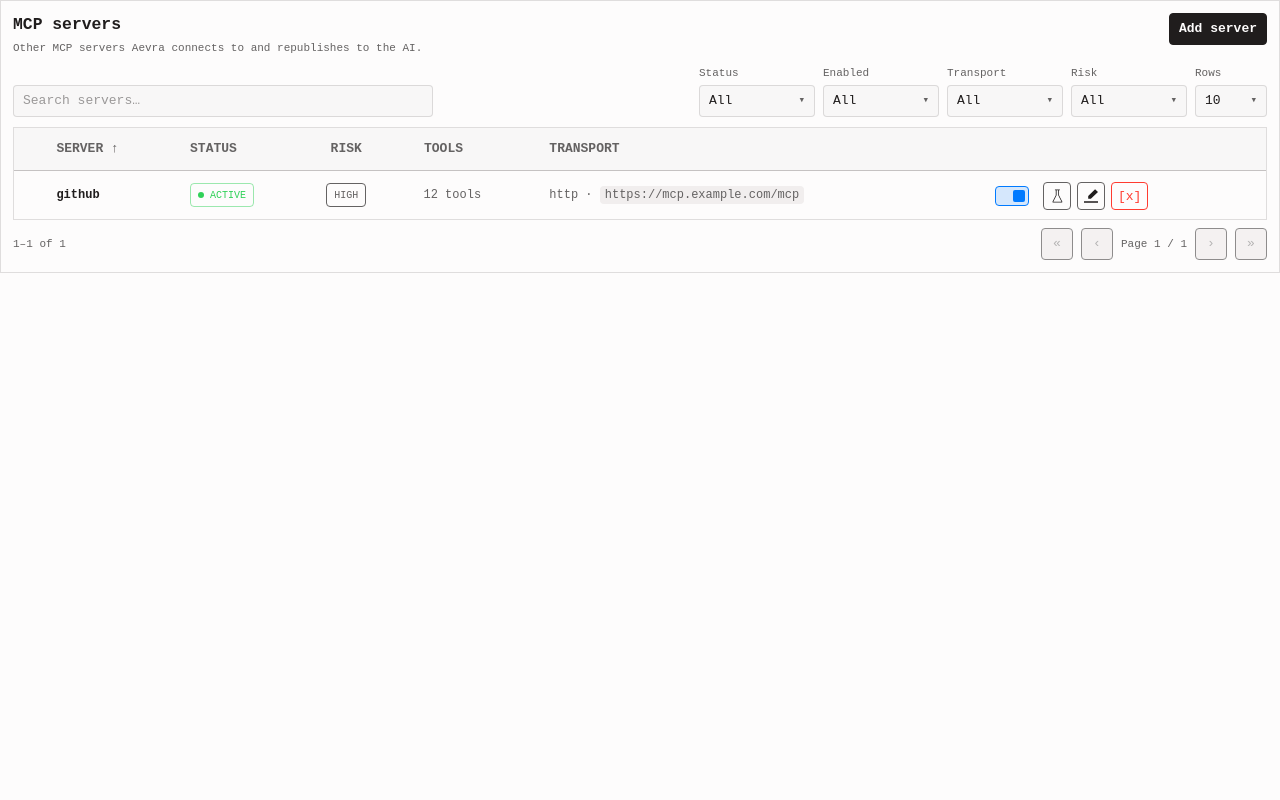
Test: McpUpstreamsSettings auto refresh › skips tick while edit modal open
Click the button named "edit github". click: x=1091, y=196
box: top-left (1077, 182), bottom-right (1105, 210)
Wait 30000 ms
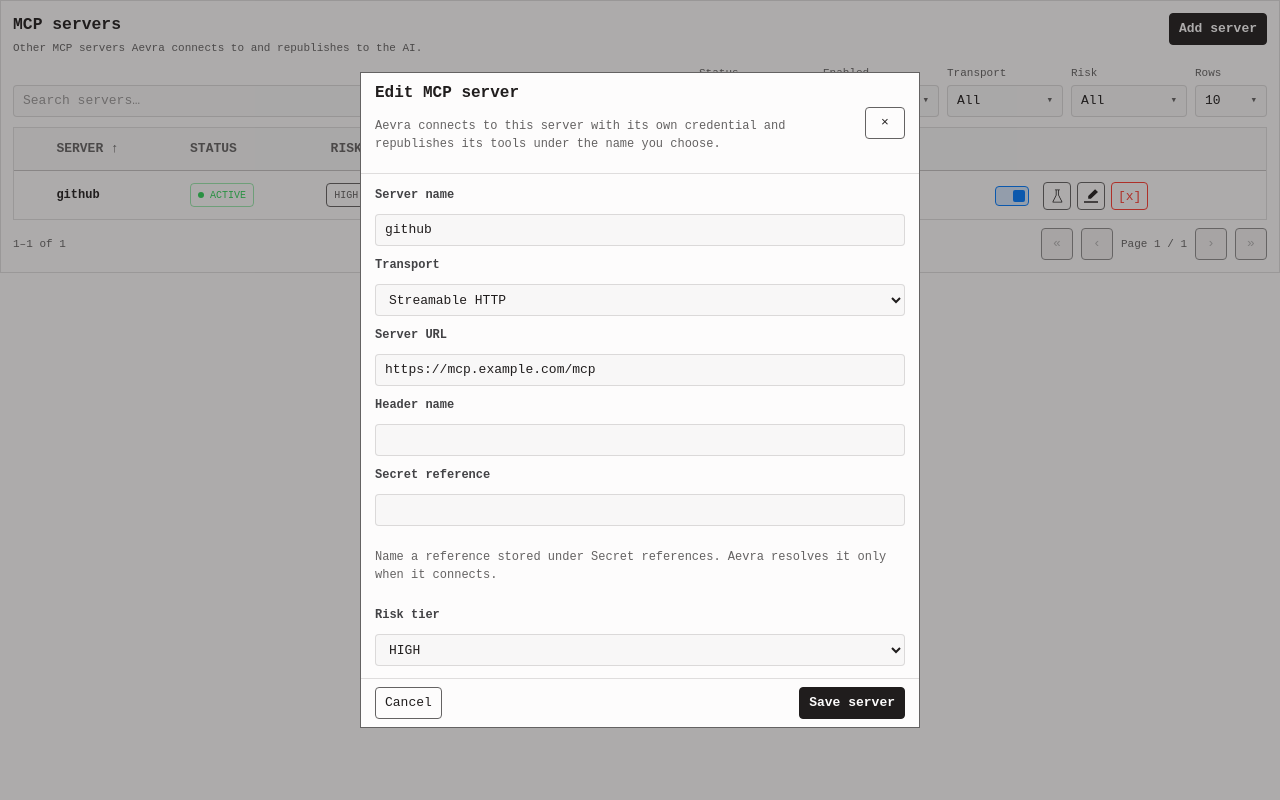
Now the field labelled "Server name" is shown, box top-left (375, 214), bottom-right (905, 246)
